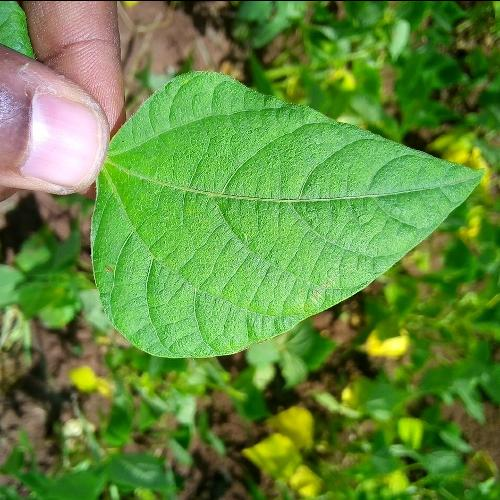sehat: (115, 146, 355, 294)
